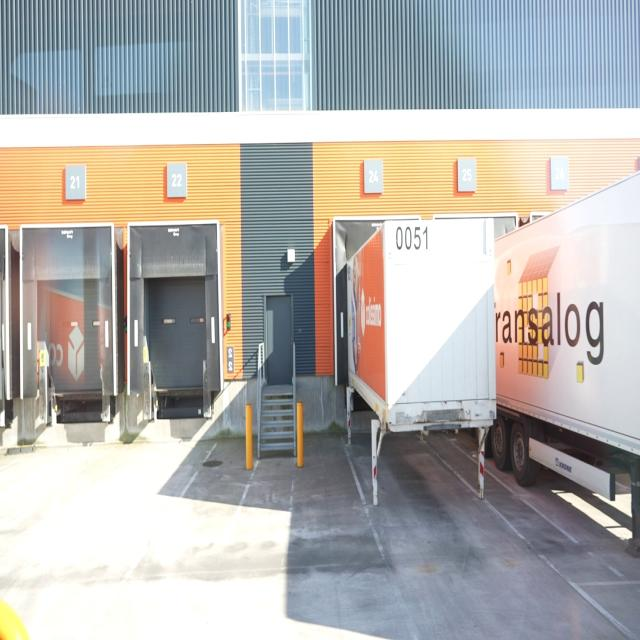Code: (393, 218, 432, 262)
